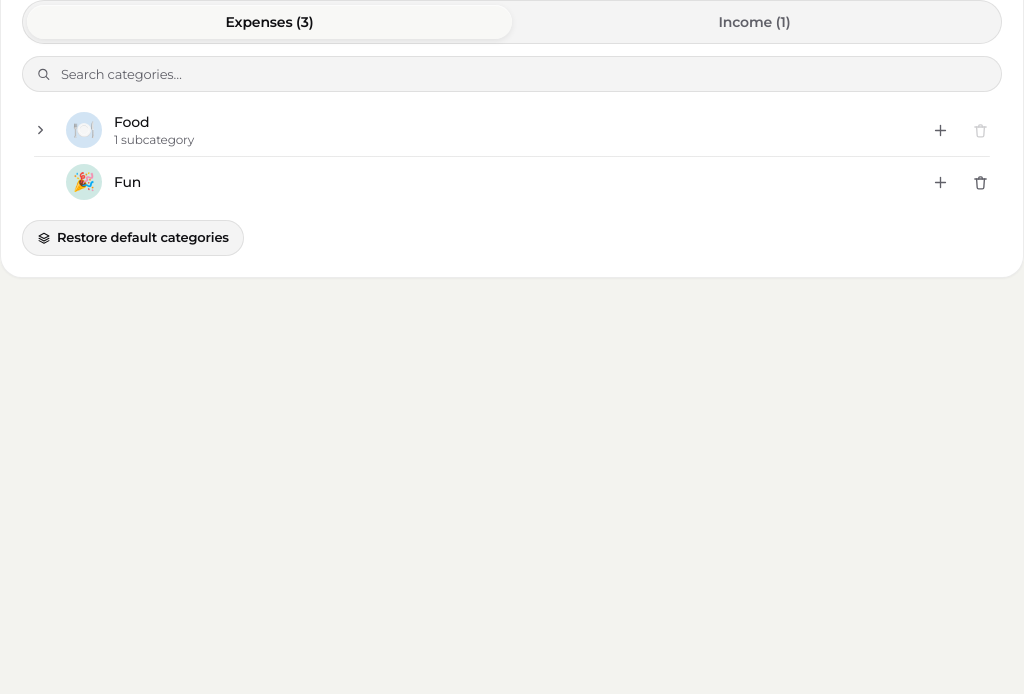
Scenario: CategoriesCard › restores the default categories once and says when they are all there
The image size is (1024, 694).
What coordinates should you click on to do the following:
click the button "Restore default categories"
I would click on:
 (133, 238)
Its box is left=22, top=220, right=244, bottom=256.
(page scrolled)
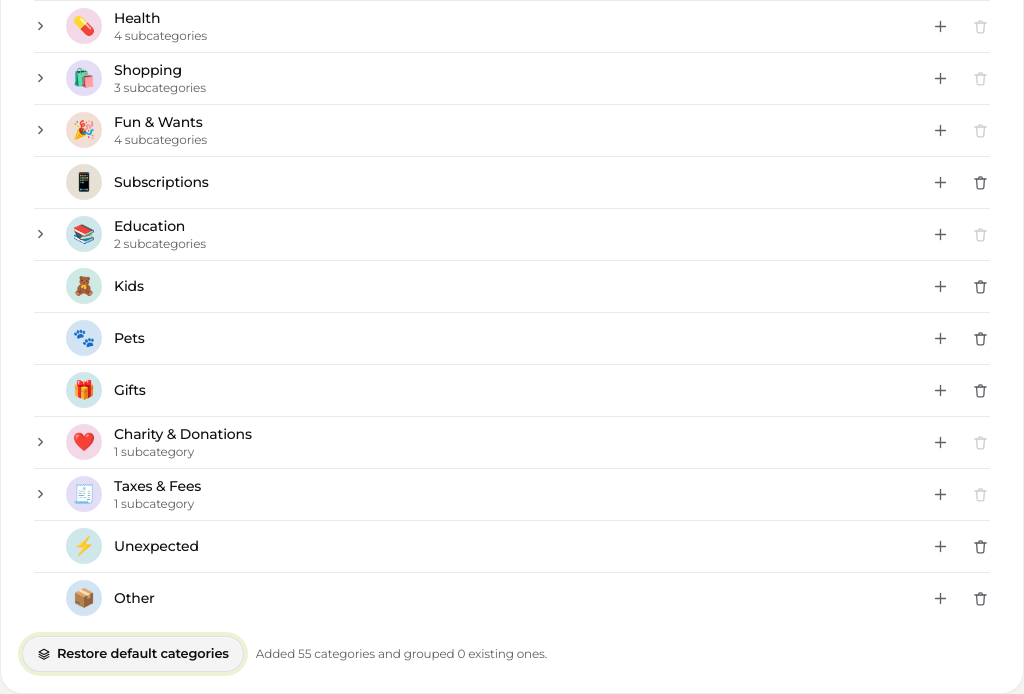
Result: the text "Added 55 categories and grouped 0 existing ones." is shown at left=256, top=646, right=547, bottom=662
